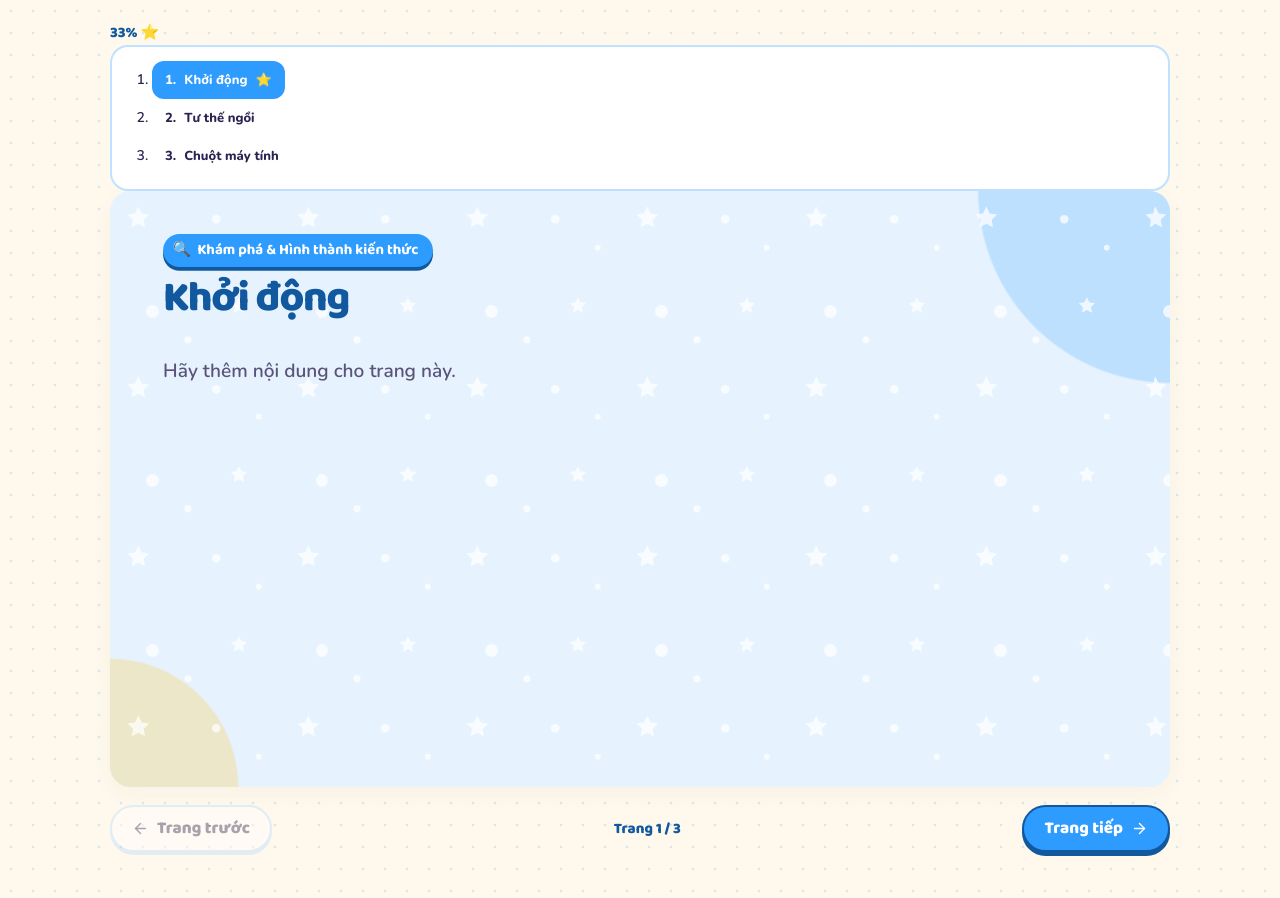
reports the new page after the student moves on
The image size is (1280, 898).
(page scrolled)
Click the button "Trang tiếp". click: (1096, 829)
box: [1022,805,1170,852]
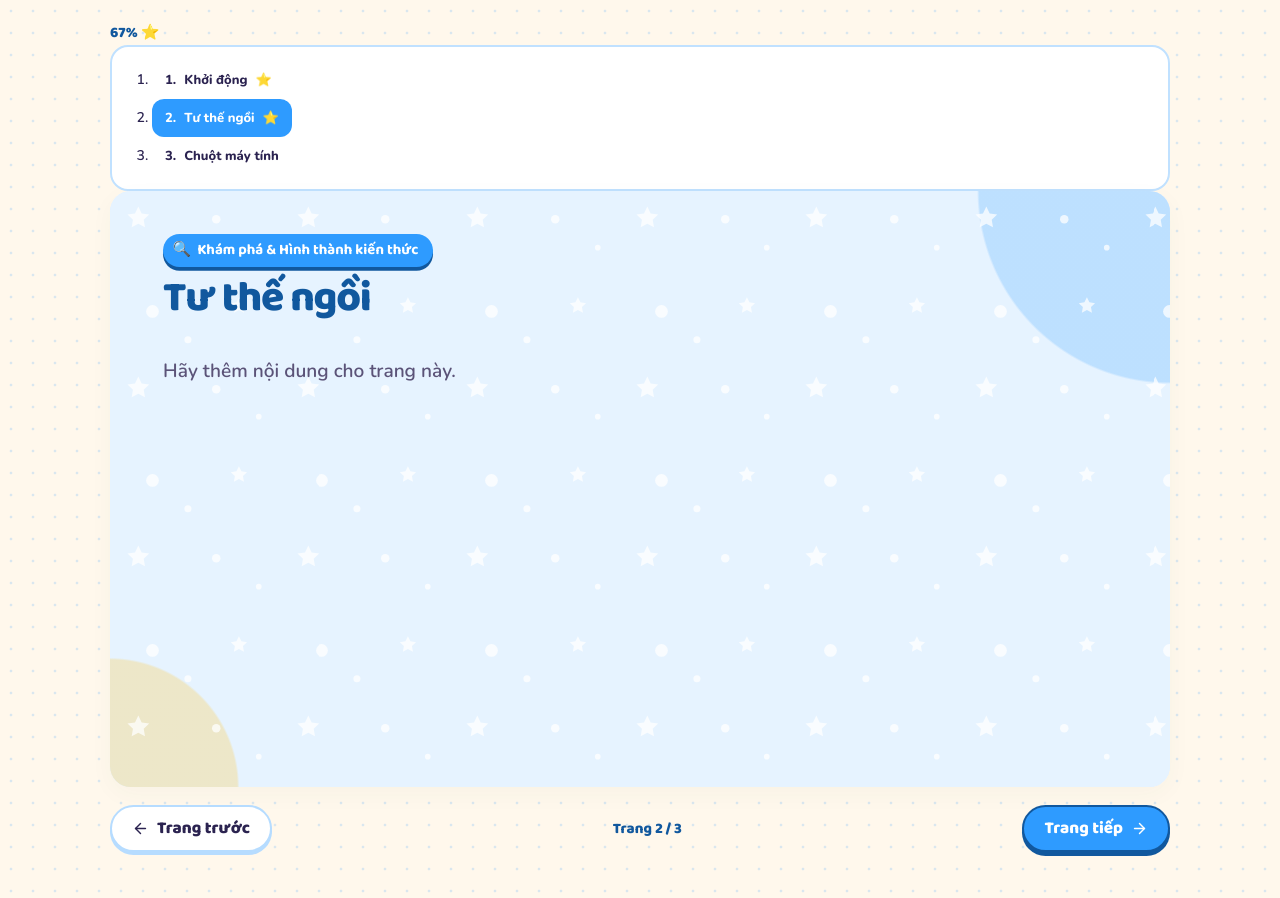
expect the text "Trang 2 / 3" is shown: met, box [613,817,682,841]
